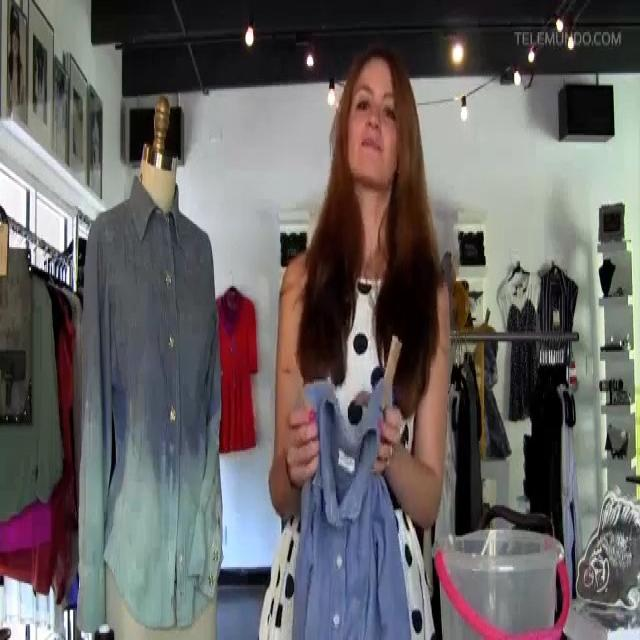shirt: (75, 172, 225, 634), (291, 380, 411, 640)
